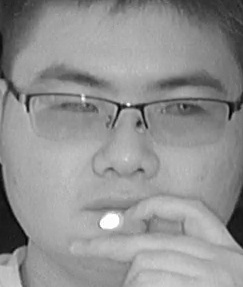eye: (157, 102, 203, 119), (58, 99, 100, 117)
glass: (26, 89, 121, 144), (139, 97, 232, 146)
